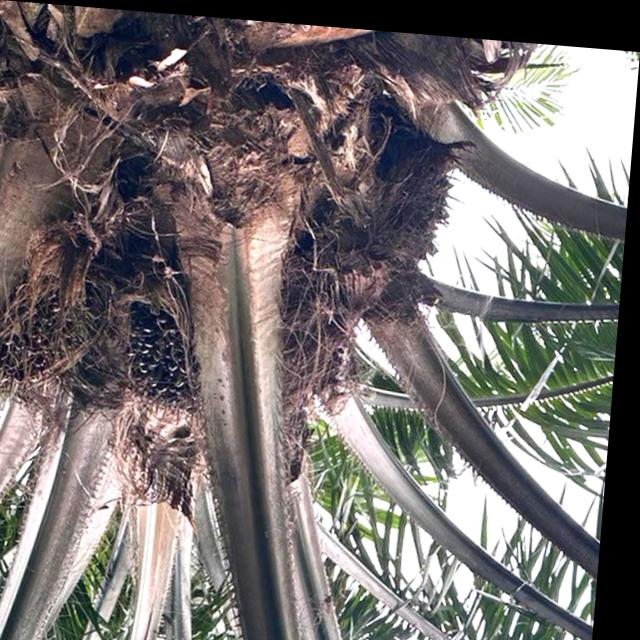unripe: (118, 251, 241, 434)
